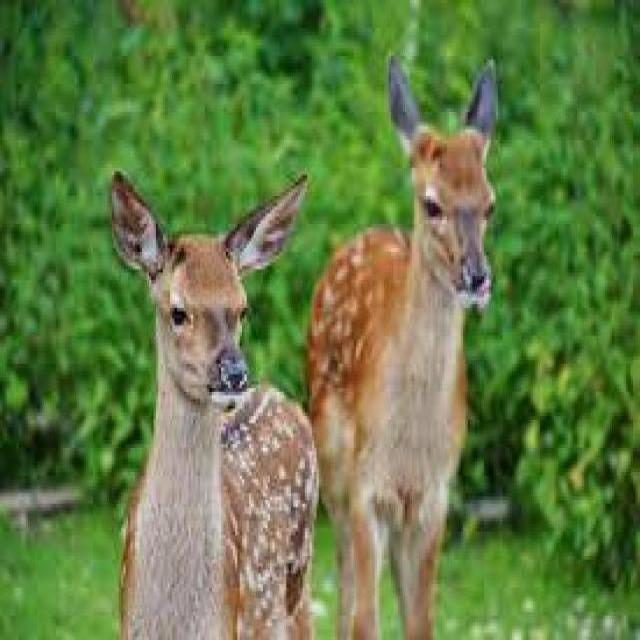deer: (70, 164, 323, 636), (334, 46, 507, 611)
